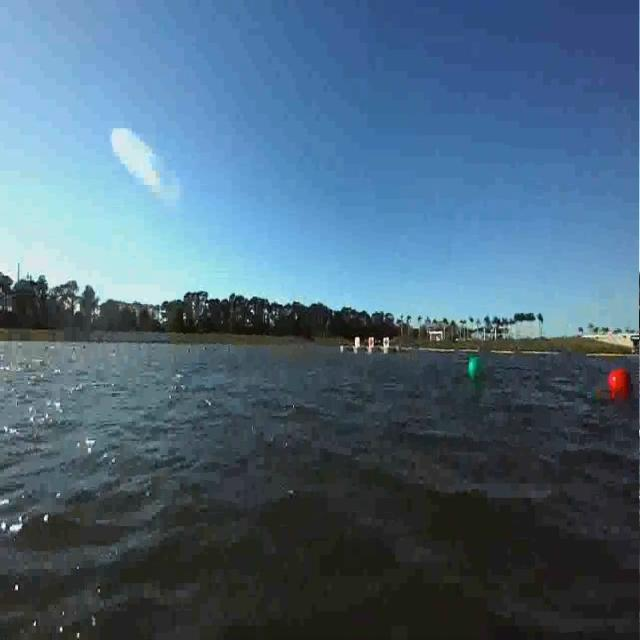green-buoy: (469, 355, 486, 379)
red-buoy: (610, 369, 632, 397)
